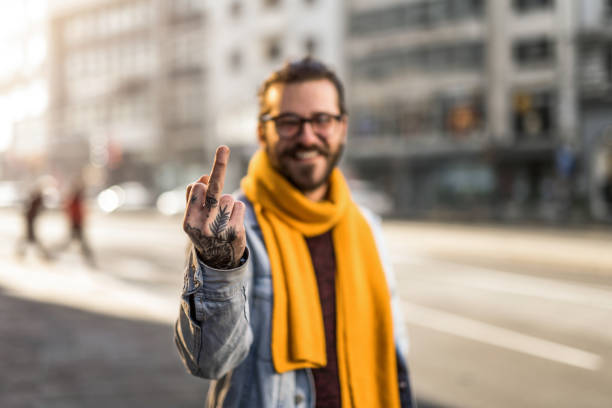insulting_gesture: (182, 143, 246, 265)
